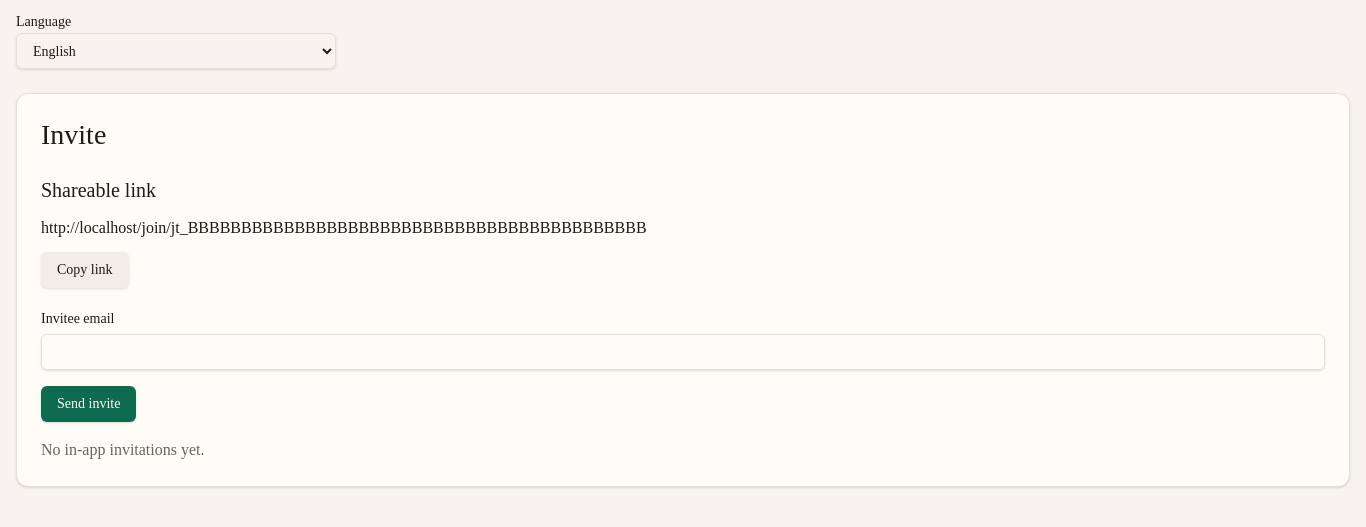
Test case: InvitePanel › T-001-41/AC-6 T-001-32/AC-1 sending an invite adds the invited account to the sent list
Type "hana@example.com" into the field labelled "Invitee email" at {"x": 683, "y": 352}, box [41,334,1325,370]
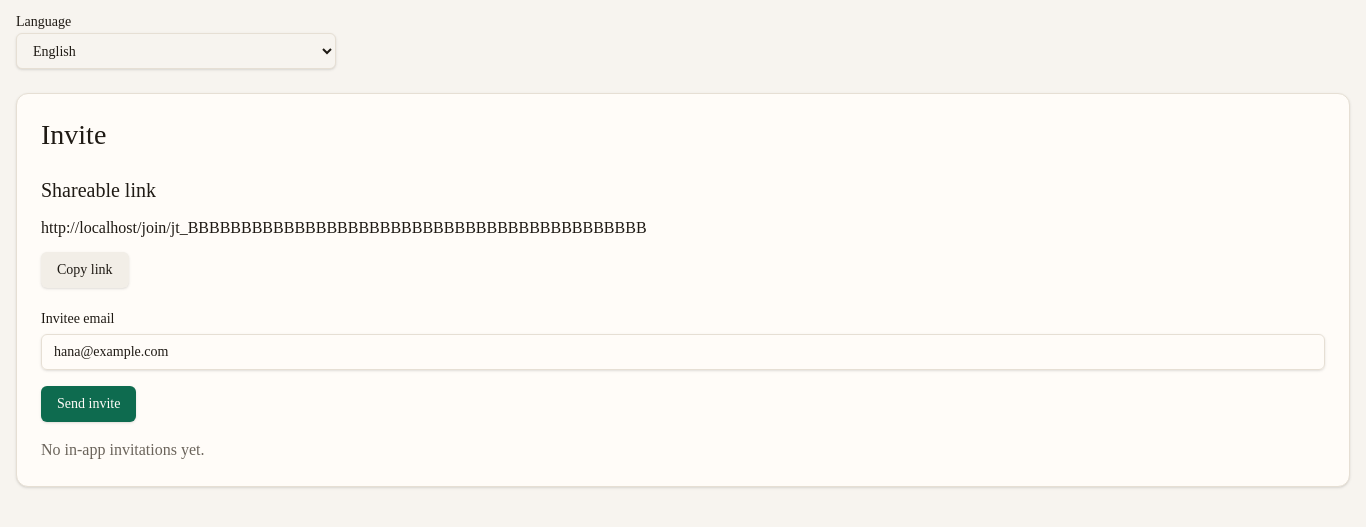
Click the button "Send invite" at {"x": 89, "y": 404}, box [41,386,136,422]
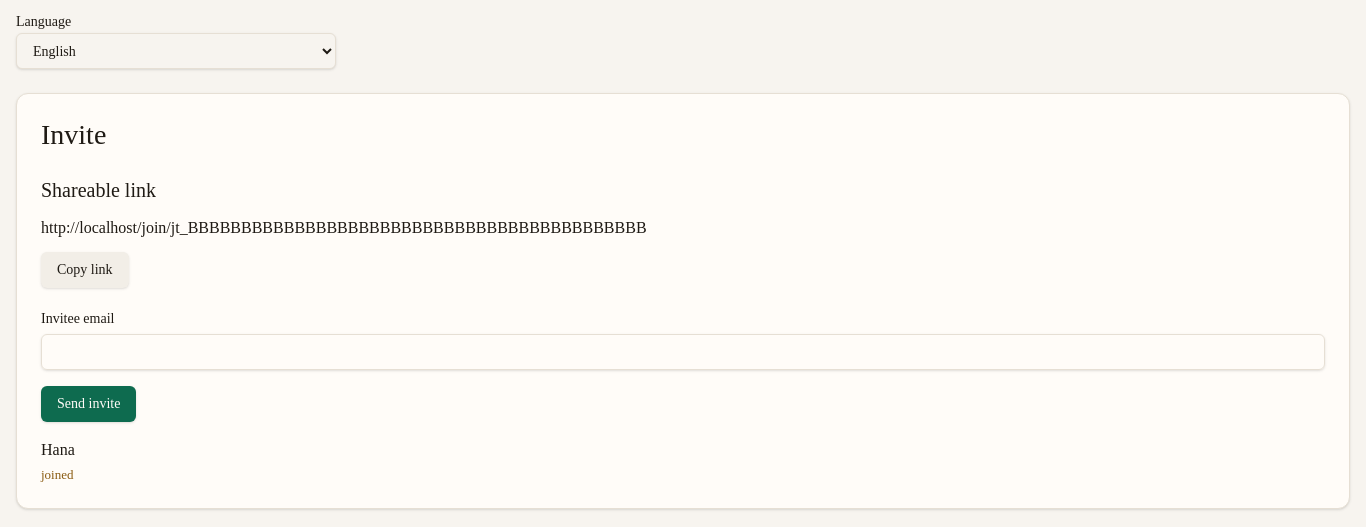
Result: the text "Hana" is shown at [41,438,75,462]
Result: the number of list items is 1 at [41,441,75,482]
